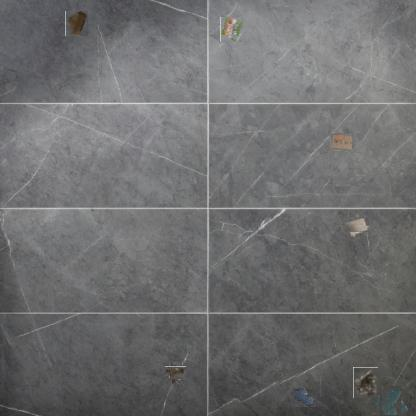dirty: (353, 367, 378, 398), (65, 10, 88, 36), (220, 16, 243, 42), (346, 214, 366, 234), (330, 134, 352, 150), (167, 364, 184, 382)
liquid: (375, 390, 404, 416), (294, 389, 316, 407)
